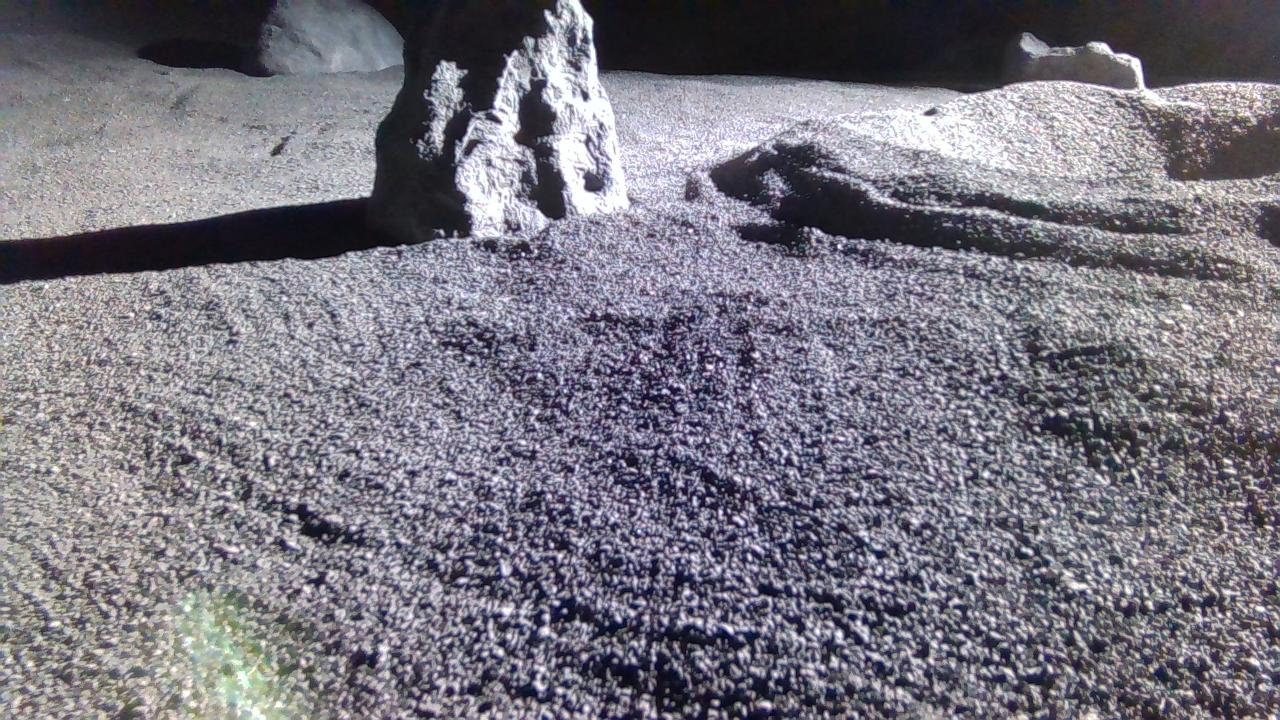rock: (369, 0, 628, 241), (257, 0, 403, 73), (1007, 30, 1146, 88)
